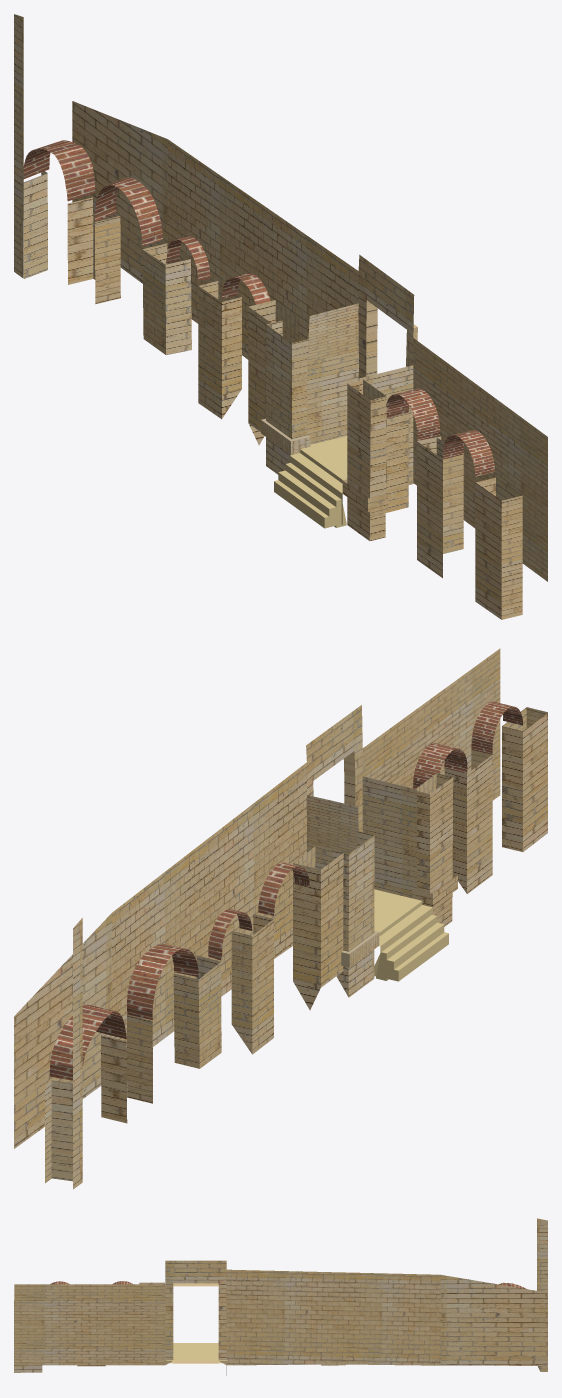
The model's file is catedral9bx.fbx.
3 renders of one model, top to bottom at view 1: azimuth 30°, elevation 25°; view 2: azimuth 150°, elevation 25°; view 3: azimuth 270°, elevation 25°, orthographic. The views are drawn at different scales.
Parts seen in each view (by area): view 1: Cube.095, Cube.035, Cube.086, Cube.096; view 2: Cube.095, Cube.035, Cube.086, Cube.096; view 3: Cube.095, Cube.035, Cube.096.
Part boxes in pixels (bbox=[...]): Cube.095: bbox=[72, 101, 547, 581]; Cube.035: bbox=[14, 14, 522, 619]; Cube.086: bbox=[23, 140, 494, 476]; Cube.096: bbox=[274, 436, 347, 528]; Cube.095: bbox=[14, 648, 500, 1148]; Cube.035: bbox=[45, 707, 547, 1189]; Cube.086: bbox=[50, 701, 522, 1080]; Cube.096: bbox=[374, 889, 448, 981]; Cube.095: bbox=[14, 1260, 547, 1375]; Cube.035: bbox=[14, 1218, 547, 1372]; Cube.096: bbox=[166, 1343, 227, 1363].
Size of the model in its own units: 1595 by 4015 by 13198.
